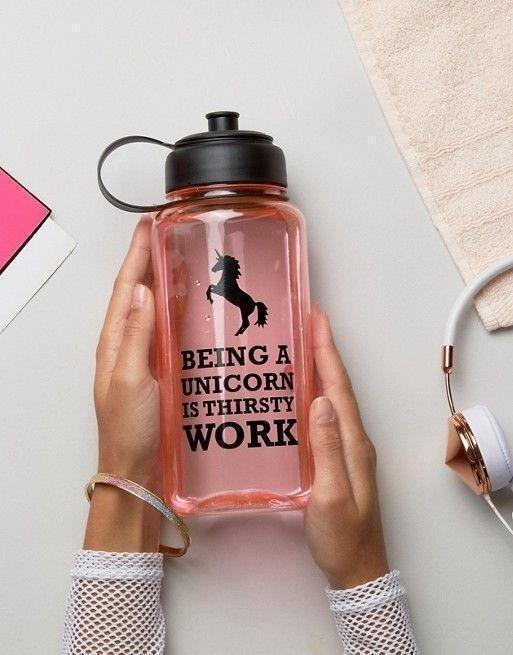gym bottle: (148, 111, 318, 514)
